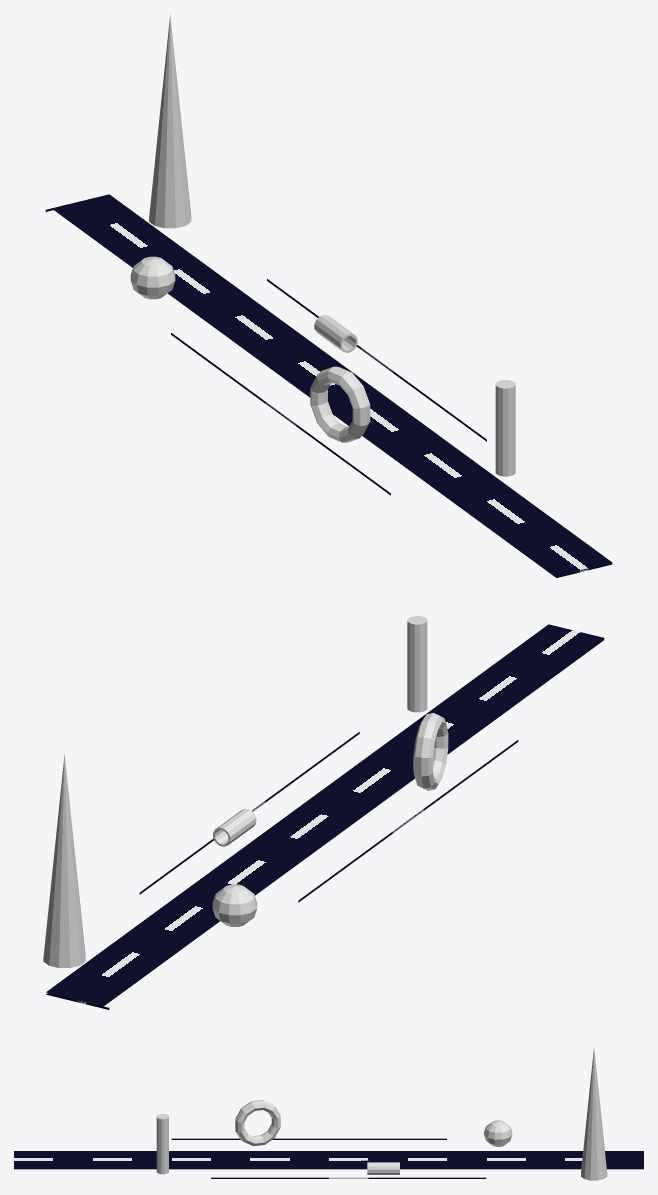
Rendered from Ground.fbx.
The picture shows the model from 3 angles, top to bottom: view 1: azimuth 30°, elevation 25°; view 2: azimuth 150°, elevation 25°; view 3: azimuth 270°, elevation 25°; orthographic projection. The views are drawn at different scales.
Visible parts, largest first — view 1: cuboid, cone, torus, cylinder, sphere, tube; view 2: cuboid, cone, torus, cylinder, sphere, tube; view 3: cuboid, cone, torus, cylinder, sphere, tube.
Boxes of the visible parts, x1=… form: cuboid: x1=45, y1=194, x2=612, y2=577; cone: x1=149, y1=15, x2=191, y2=228; torus: x1=310, y1=366, x2=370, y2=442; cylinder: x1=495, y1=380, x2=515, y2=476; sphere: x1=130, y1=256, x2=175, y2=299; tube: x1=314, y1=314, x2=357, y2=352; cuboid: x1=46, y1=624, x2=604, y2=1009; cone: x1=43, y1=755, x2=85, y2=967; torus: x1=413, y1=713, x2=448, y2=790; cylinder: x1=407, y1=616, x2=427, y2=712; sphere: x1=212, y1=884, x2=257, y2=926; tube: x1=213, y1=808, x2=256, y2=846; cuboid: x1=14, y1=1138, x2=643, y2=1178; cone: x1=581, y1=1047, x2=607, y2=1180; torus: x1=235, y1=1100, x2=280, y2=1145; cylinder: x1=156, y1=1114, x2=168, y2=1174; sphere: x1=484, y1=1120, x2=512, y2=1146; tube: x1=367, y1=1162, x2=399, y2=1174.
Size of the model in its own units: 781 by 1144 by 5050.
Materials: 1 (1 with a texture image).
